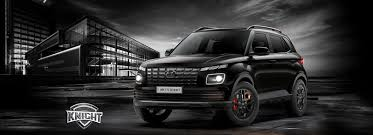car: (132, 22, 312, 125)
